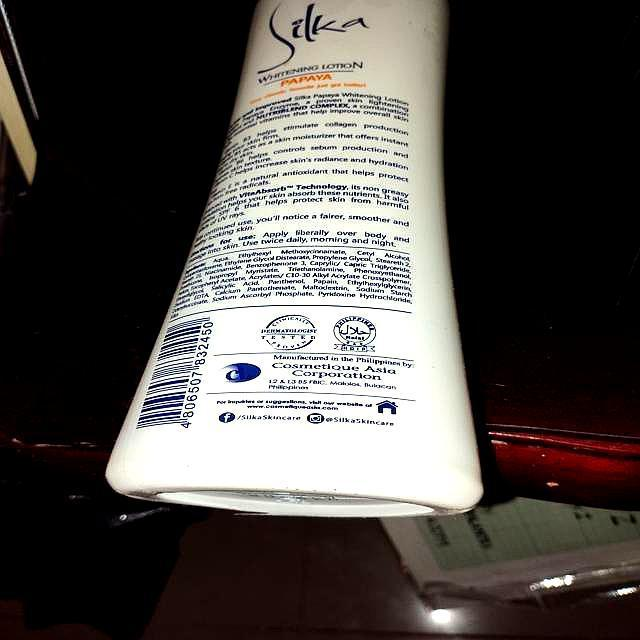Non-biodegradable: (87, 1, 493, 529)
